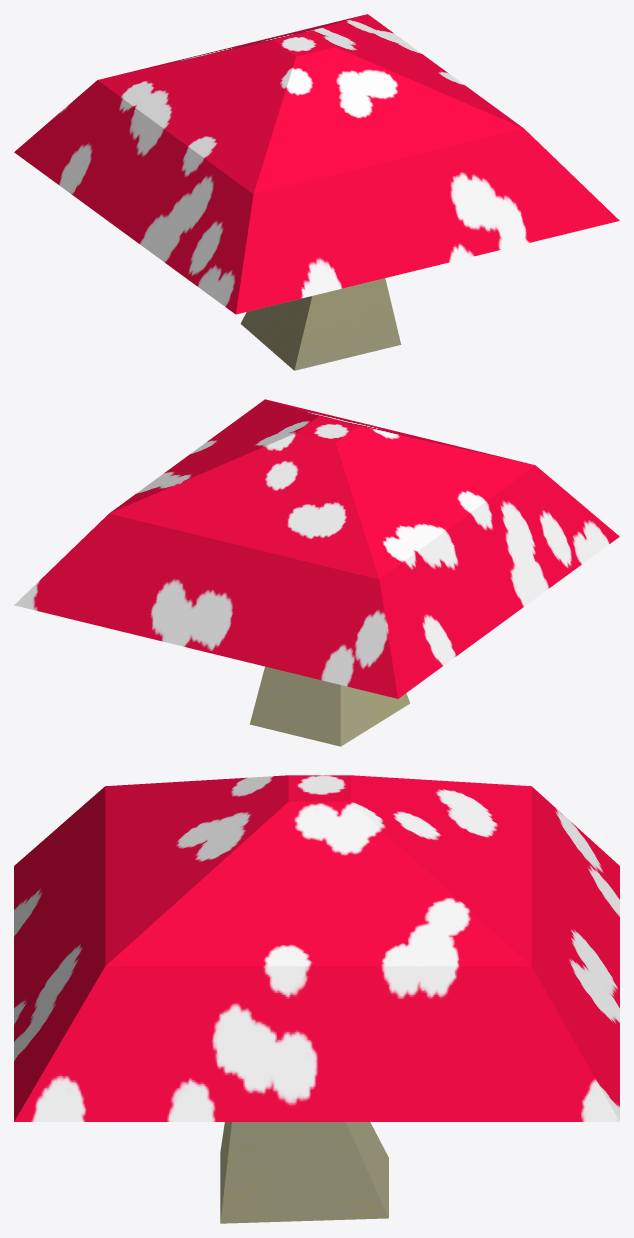
Rendered from mushroom2.fbx.
3 renders of one model, top to bottom at view 1: azimuth 30°, elevation 25°; view 2: azimuth 150°, elevation 25°; view 3: azimuth 270°, elevation 25°, orthographic. The views are drawn at different scales.
Parts seen in each view (by area): view 1: Cube; view 2: Cube; view 3: Cube.
Part boxes in pixels (x1,y1,x2,y2): Cube: (14,14,619,370); Cube: (14,399,619,746); Cube: (14,775,619,1223).
Size of the model in its own units: 608 by 437 by 608.
